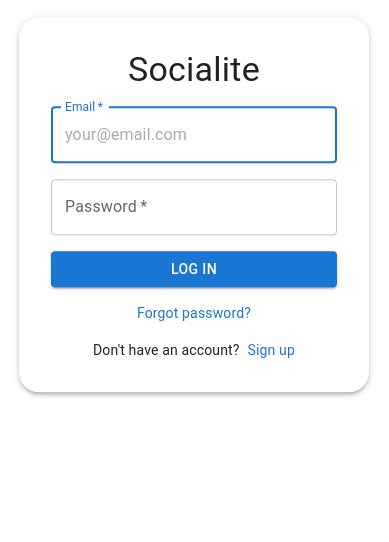
Test: LoginPage › switches to RegisterPane when clicking 'Sign up'
The image size is (389, 542).
Click the button "Sign up".
click(271, 350)  # box [248,340,295,360]
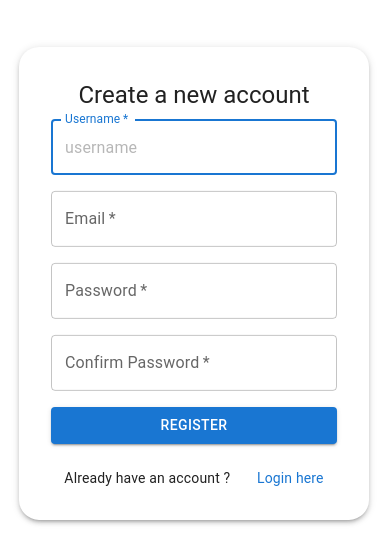
Check: the field labelled "Username" is shown, box [51,119,337,175]
Check: the number of password fields labelled "Password *" is 2, box [51,263,337,319]; [51,335,337,391]
Check: the password field labelled "Password *" is shown, box [51,263,337,319]
